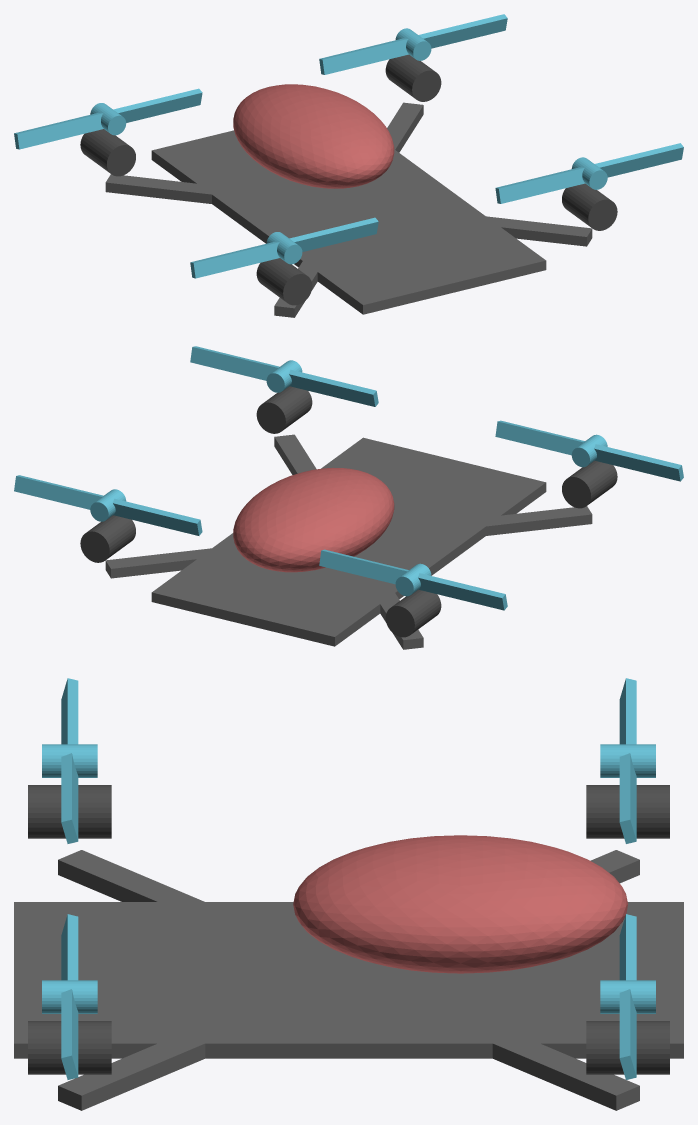
The picture shows the model from 3 angles, top to bottom: view 1: azimuth 30°, elevation 25°; view 2: azimuth 150°, elevation 25°; view 3: azimuth 270°, elevation 25°; orthographic projection. The views are drawn at different scales.
Visible parts, largest first — view 1: frame_body, canopy, prop_1, prop_2, prop_0, prop_3, arm_3, arm_0, motor_2, motor_3, motor_1, motor_0 (+2 smaller); view 2: frame_body, canopy, prop_1, prop_0, prop_2, prop_3, arm_2, motor_0, arm_1, motor_2, motor_3, motor_1 (+2 smaller); view 3: frame_body, canopy, arm_0, arm_1, prop_0, prop_2, prop_3, prop_1, arm_2, motor_1, motor_3, motor_0 (+2 smaller).
Boxes of the visible parts, x1,y1,x2,y2 form: frame_body: (151,130,546,314); canopy: (233,84,394,188); prop_1: (319,14,507,74); prop_2: (190,217,378,278); prop_0: (495,143,683,203); prop_3: (14,88,202,149); arm_3: (105,174,229,203); arm_0: (486,216,592,246); motor_2: (256,258,312,305); motor_3: (80,129,135,176); motor_1: (385,54,441,101); motor_0: (562,183,617,230); frame_body: (151,437,546,646); canopy: (233,467,394,572); prop_1: (14,475,202,535); prop_0: (190,346,378,406); prop_2: (495,420,683,481); prop_3: (319,549,507,610); arm_2: (379,506,592,538); motor_0: (256,386,312,433); arm_1: (105,548,211,578); motor_2: (562,460,617,508); motor_3: (385,589,441,637); motor_1: (80,515,135,562); frame_body: (14,902,683,1058); canopy: (293,835,627,973); arm_0: (58,968,354,1110); arm_1: (348,968,639,1110); prop_0: (42,914,97,1079); prop_2: (42,678,97,843); prop_3: (600,678,655,843); prop_1: (600,914,655,1079); arm_2: (58,850,359,972); motor_1: (586,1021,669,1074); motor_3: (586,785,669,838); motor_0: (28,1021,111,1074).
Size of the model in its own units: 0.16 by 0.0265 by 0.12.
